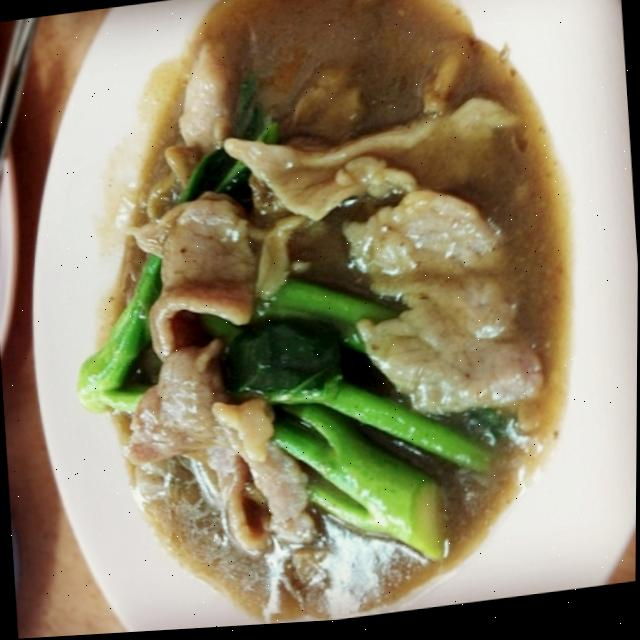面条主食: (49, 0, 608, 634)
